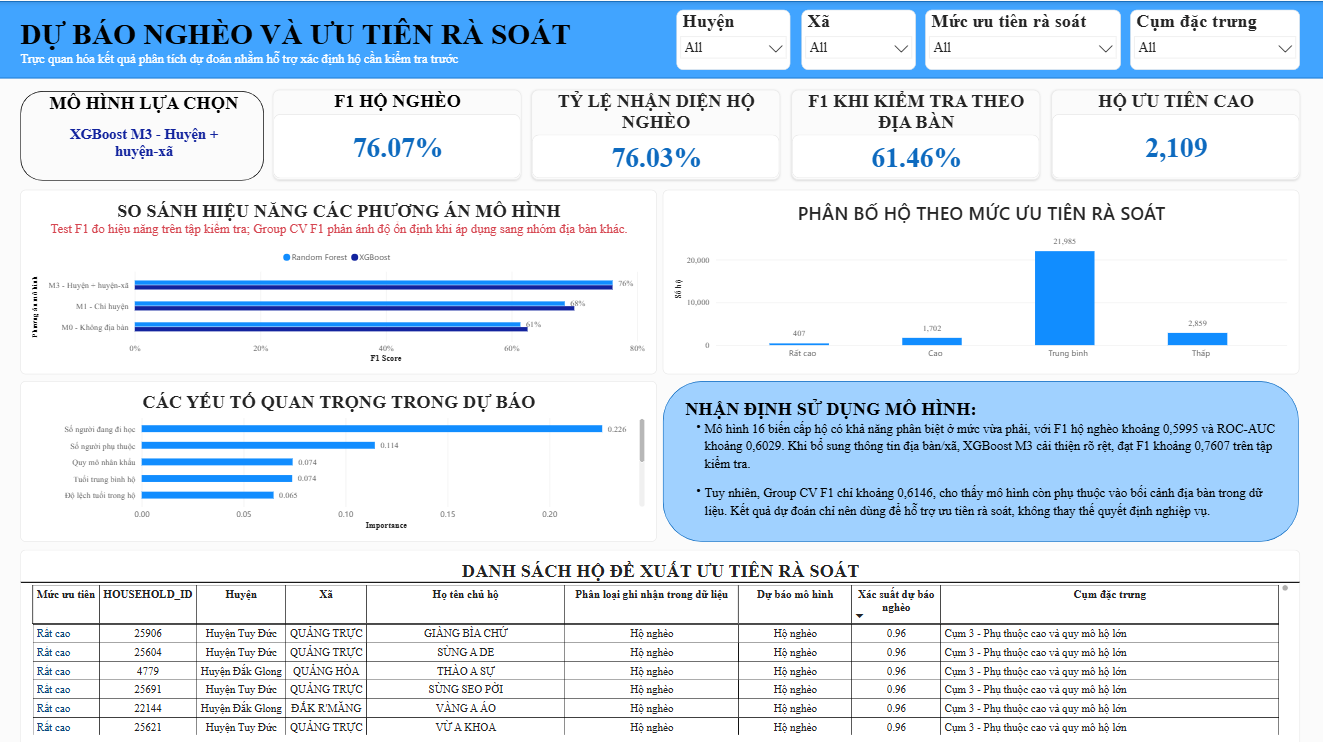

This screenshot's page, from the dashboard's own definition file:
{"tool":"powerbi","page":{"name":"Dự báo và ưu tiên rà soát","canvas":[1920,1080],"ordinal":4},"visuals":[{"type":"shape","box":[0,0,1920,112],"z":0},{"type":"textbox","box":[30,23.3,1011.7,88.3],"z":1000},{"type":"slicer","fields":{"Values":["DimDistrict.HUYEN"]},"box":[1131.8,13,164.5,86.6],"z":2000},{"type":"slicer","fields":{"Values":["poverty_predictions.XA"]},"box":[1327.3,13,164.5,86.6],"z":3000},{"type":"slicer","fields":{"Values":["DimUuTien.MucUuTien"]},"box":[1522.8,13,164.5,86.6],"z":4000},{"type":"cardVisual","title":"F1 HỘ NGHÈO","fields":{"Data":["Max(algorithm_comparison.test_f1_ngheo)"]},"box":[395.8,128.3,360,130],"z":5000},{"type":"cardVisual","title":"TỶ LỆ NHẬN DIỆN HỘ NGHÈO","fields":{"Data":["Max(algorithm_comparison.test_recall_ngheo)"]},"box":[771.7,128.3,360,130],"z":6000},{"type":"cardVisual","title":"F1 KHI KIỂM TRA THEO ĐỊA BÀN","fields":{"Data":["Max(algorithm_comparison.group_cv_f1_mean)"]},"box":[1147.5,128.3,360,130],"z":7000},{"type":"cardVisual","title":"HỘ ƯU TIÊN CAO","fields":{"Data":["algorithm_comparison.Hộ ưu tiên cao"]},"box":[1523.3,128.3,360,130],"z":8000},{"type":"clusteredBarChart","title":"SO SÁNH HIỆU NĂNG CÁC PHƯƠNG ÁN MÔ HÌNH","fields":{"Category":["algorithm_comparison.variant"],"Series":["algorithm_comparison.model"],"Y":["Max(algorithm_comparison.test_f1_ngheo)"]},"box":[30,272.9,921.4,267.1],"z":9000},{"type":"tableEx","title":"DANH SÁCH HỘ ĐỀ XUẤT ƯU TIÊN RÀ SOÁT","fields":{"Values":["poverty_predictions.MucUuTienClean 2","poverty_predictions.HOUSEHOLD_ID","poverty_predictions.HUYEN","poverty_predictions.XA","poverty_predictions.HO_TEN_CHU_HO","poverty_predictions.poverty_true","poverty_predictions.poverty_pred","Sum(poverty_predictions.prob_ngheo)","clustered.cluster_name"]},"box":[30,794.3,1852.9,285.7],"z":10000},{"type":"lineClusteredColumnComboChart","title":"PHÂN BỐ HỘ THEO MỨC ƯU TIÊN RÀ SOÁT","fields":{"Category":["DimUuTien.MucUuTien"],"Y":["poverty_predictions.Số hộ theo mức ưu tiên"]},"box":[961.4,272.9,921.4,267.1],"z":11000},{"type":"clusteredBarChart","title":"CÁC YẾU TỐ QUAN TRỌNG TRONG DỰ BÁO","fields":{"Category":["poverty_feature_importance.TenHienThi"],"Y":["Sum(poverty_feature_importance.importance)"]},"box":[30,550,921.4,232.9],"z":12000},{"type":"shape","box":[961,550,921,233],"z":13000},{"type":"textbox","box":[994.3,575.7,864.3,184.3],"z":14000},{"type":"shape","box":[30,130,352.9,130],"z":15000},{"type":"textbox","box":[71.4,132.9,278.6,118.6],"z":16000},{"type":"slicer","fields":{"Values":["clustered.cluster_name"]},"box":[1718.3,13,164.5,86.6],"z":17000}]}

Visuals, with their boxes in screenshot pixels (x1, y1, x2, y2), scaled from the page's 1920x1080 canvas onto the 1323x742 screenshot:
shape: <region>0, 0, 1322, 77</region>
textbox: <region>21, 16, 718, 77</region>
slicer - DimDistrict.HUYEN: <region>780, 9, 893, 68</region>
slicer - poverty_predictions.XA: <region>915, 9, 1028, 68</region>
slicer - DimUuTien.MucUuTien: <region>1049, 9, 1163, 68</region>
"F1 HỘ NGHÈO" cardVisual: <region>273, 88, 521, 177</region>
"TỶ LỆ NHẬN DIỆN HỘ NGHÈO" cardVisual: <region>532, 88, 780, 177</region>
"F1 KHI KIỂM TRA THEO ĐỊA BÀN" cardVisual: <region>791, 88, 1039, 177</region>
"HỘ ƯU TIÊN CAO" cardVisual: <region>1050, 88, 1298, 177</region>
"SO SÁNH HIỆU NĂNG CÁC PHƯƠNG ÁN MÔ HÌNH" clusteredBarChart: <region>21, 187, 656, 371</region>
"DANH SÁCH HỘ ĐỀ XUẤT ƯU TIÊN RÀ SOÁT" tableEx: <region>21, 546, 1297, 741</region>
"PHÂN BỐ HỘ THEO MỨC ƯU TIÊN RÀ SOÁT" lineClusteredColumnComboChart: <region>662, 187, 1297, 371</region>
"CÁC YẾU TỐ QUAN TRỌNG TRONG DỰ BÁO" clusteredBarChart: <region>21, 378, 656, 538</region>
shape: <region>662, 378, 1297, 538</region>
textbox: <region>685, 396, 1281, 522</region>
shape: <region>21, 89, 264, 179</region>
textbox: <region>49, 91, 241, 173</region>
slicer - clustered.cluster_name: <region>1184, 9, 1297, 68</region>
